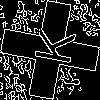K: (25, 25, 76, 66)
